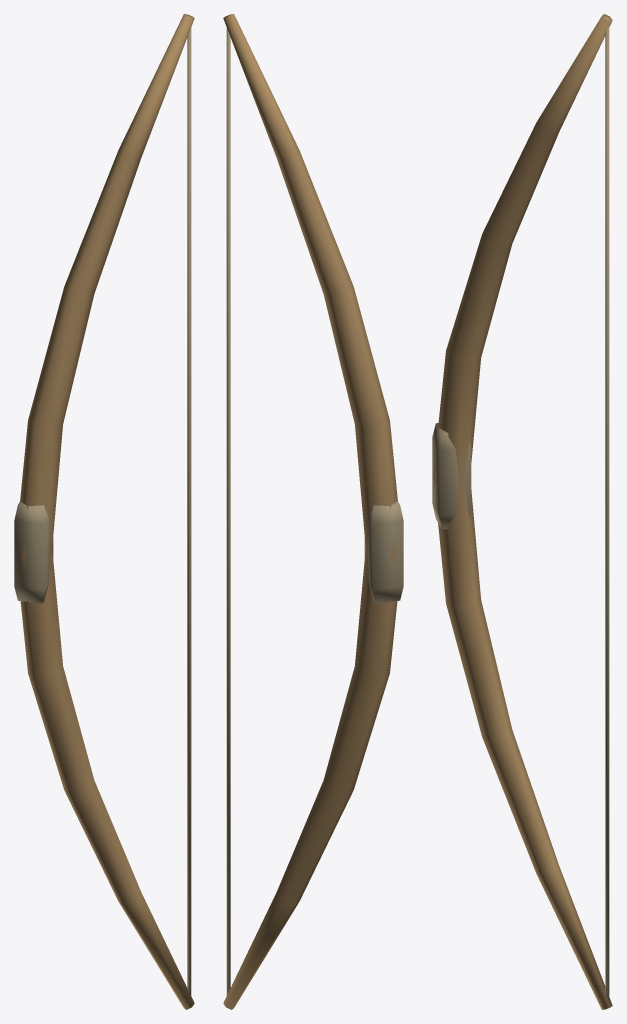
Rendered from primitive_self_bow_lod1.glb.
3 views of the same model, side by side, from view 1: azimuth 30°, elevation 25°; view 2: azimuth 150°, elevation 25°; view 3: azimuth 330°, elevation 25° (orthographic).
Parts seen in each view (by area): view 1: primitive_self_bow_lod1; view 2: primitive_self_bow_lod1; view 3: primitive_self_bow_lod1.
Part boxes in pixels (<box>): primitive_self_bow_lod1: <box>14,14,194,1009</box>; primitive_self_bow_lod1: <box>223,14,403,1009</box>; primitive_self_bow_lod1: <box>432,14,612,1009</box>.
Bounding box in the file's own units: 0.294 × 1.56 × 0.064.
